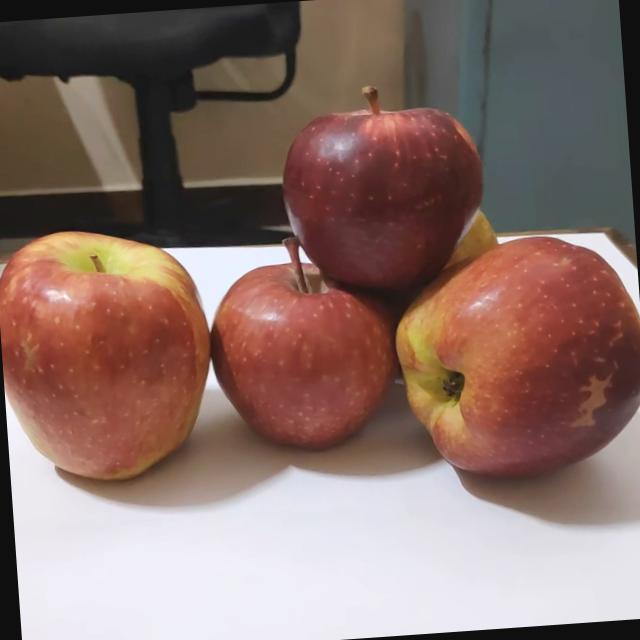apple: (383, 224, 640, 494), (0, 215, 220, 488), (272, 72, 496, 298), (200, 222, 408, 456), (430, 202, 504, 269)
